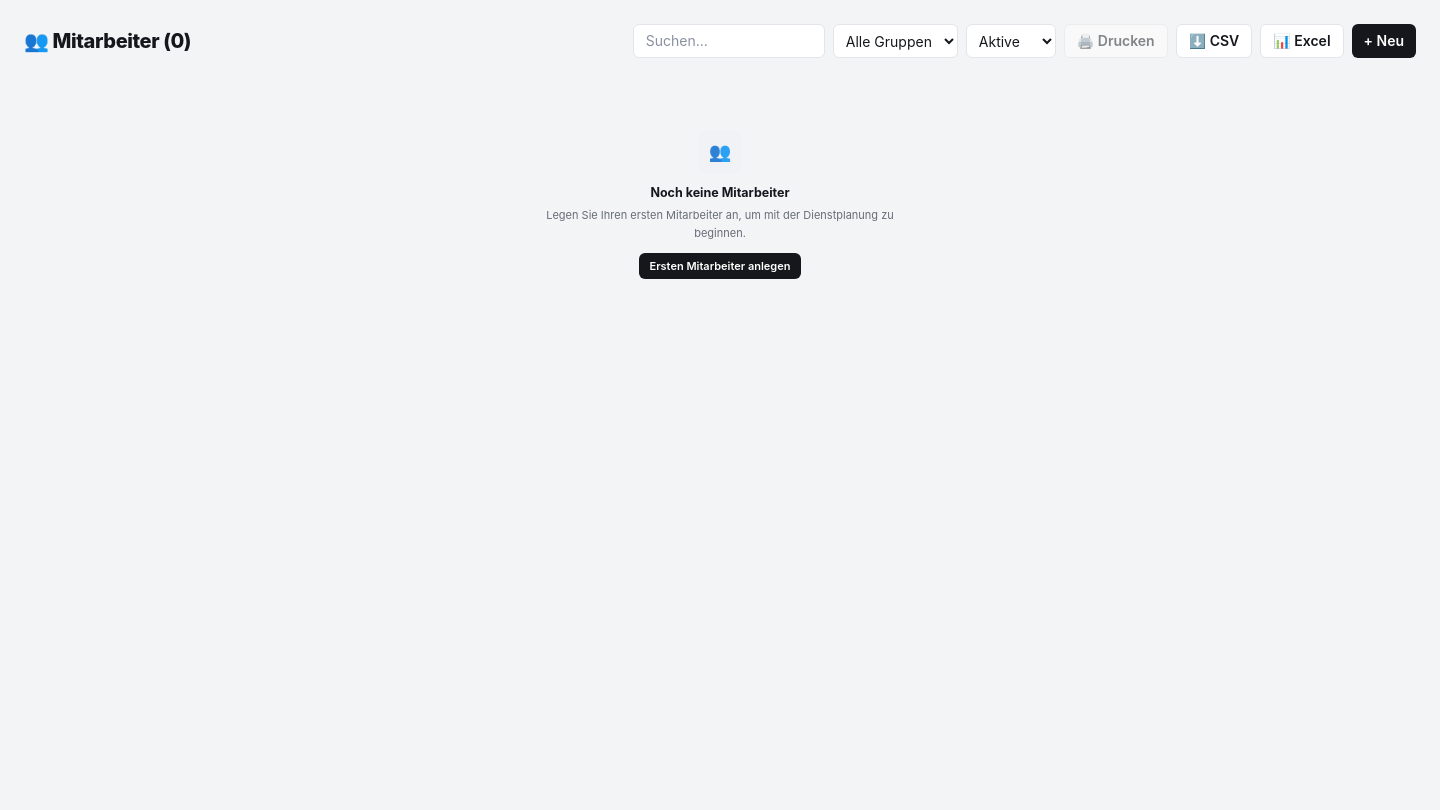
MA-Formular — konfigurierbare Zusatzfeld-Labels › zeigt die konfigurierten Bezeichnungen im Formular
The width and height of the screenshot is (1440, 810).
Click the button "+ Neu". click: [1384, 41]
box: [1352, 24, 1416, 58]
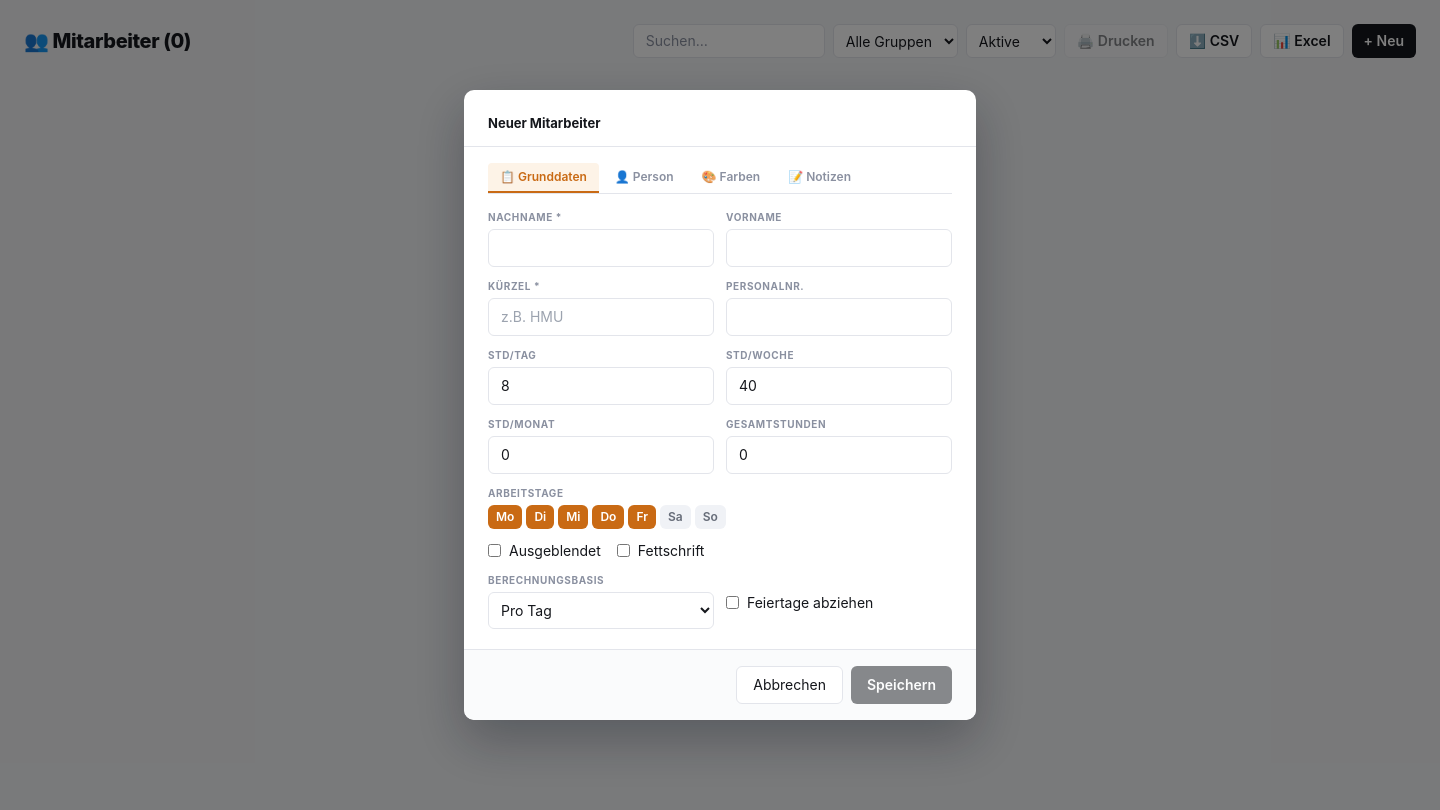
// Zusatzfelder liegen im Person-Tab des Formulars
Click the button "👤 Person". click: [644, 178]
box: [603, 163, 686, 193]
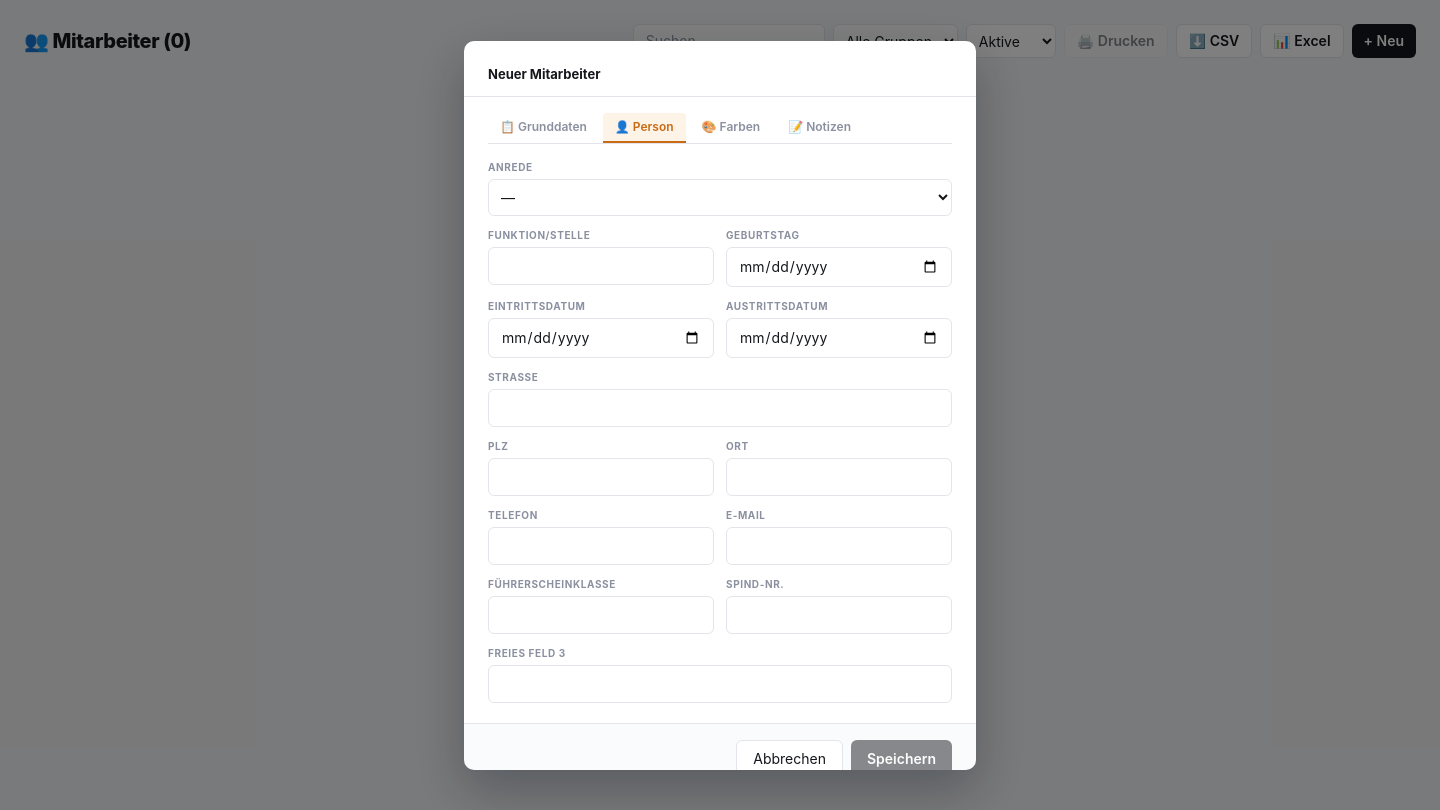
Now the text "Führerscheinklasse" is shown, box [488, 578, 616, 590]
Now the text "Spind-Nr." is shown, box [726, 578, 784, 590]
